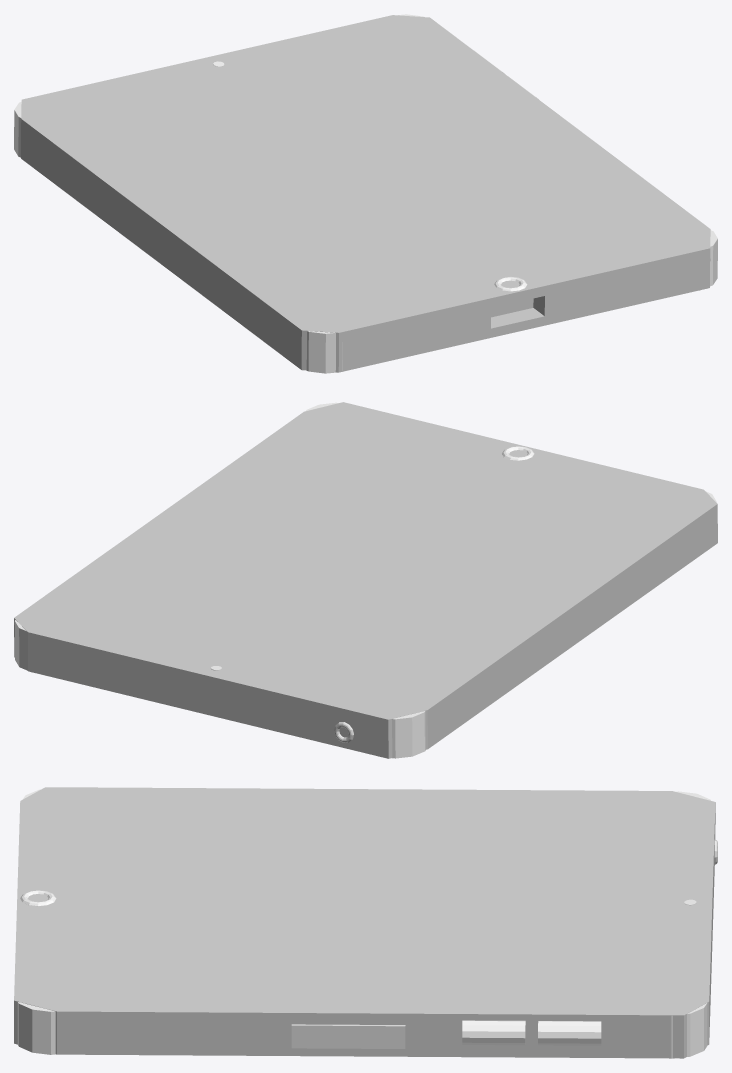
File: tablet.glb
The picture shows the model from 3 angles, top to bottom: view 1: azimuth 30°, elevation 25°; view 2: azimuth 150°, elevation 25°; view 3: azimuth 270°, elevation 25°; orthographic projection. The views are drawn at different scales.
Visible parts, largest first — view 1: mesh_1133769752; view 2: mesh_1133769752; view 3: mesh_1133769752, mesh_1790419188.
Part boxes in pixels (x1,y1,x2,y2): mesh_1133769752: (14,14,717,373); mesh_1133769752: (14,402,717,758); mesh_1133769752: (14,787,715,1058); mesh_1790419188: (291,839,717,1048).
Size of the model in its own units: 0.1455 by 0.0142 by 0.1882.
2 materials, 2 textured.
